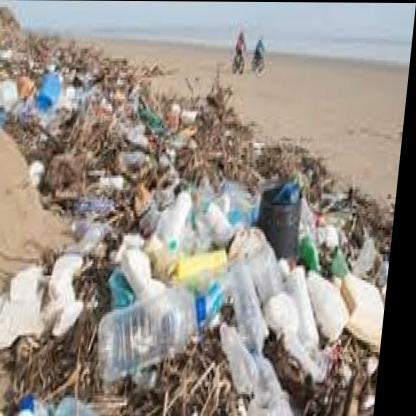Plastic: (94, 289, 225, 372), (0, 243, 93, 356), (220, 320, 275, 384), (234, 263, 276, 345)
